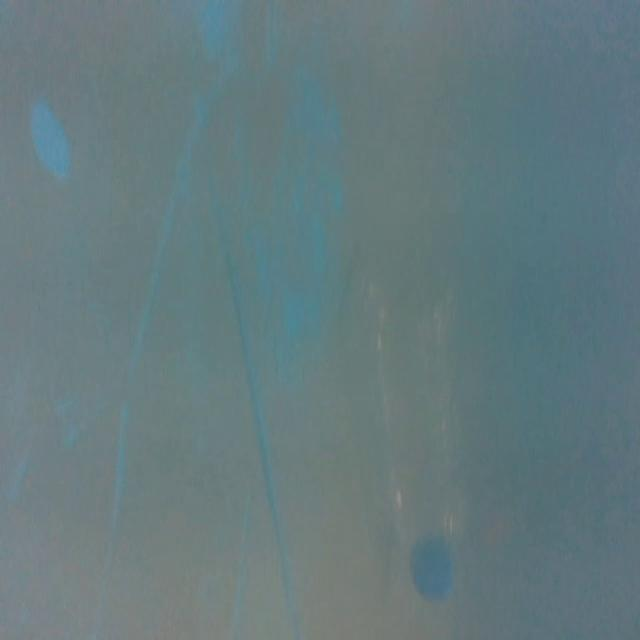plastic bottle: (357, 249, 483, 606)
